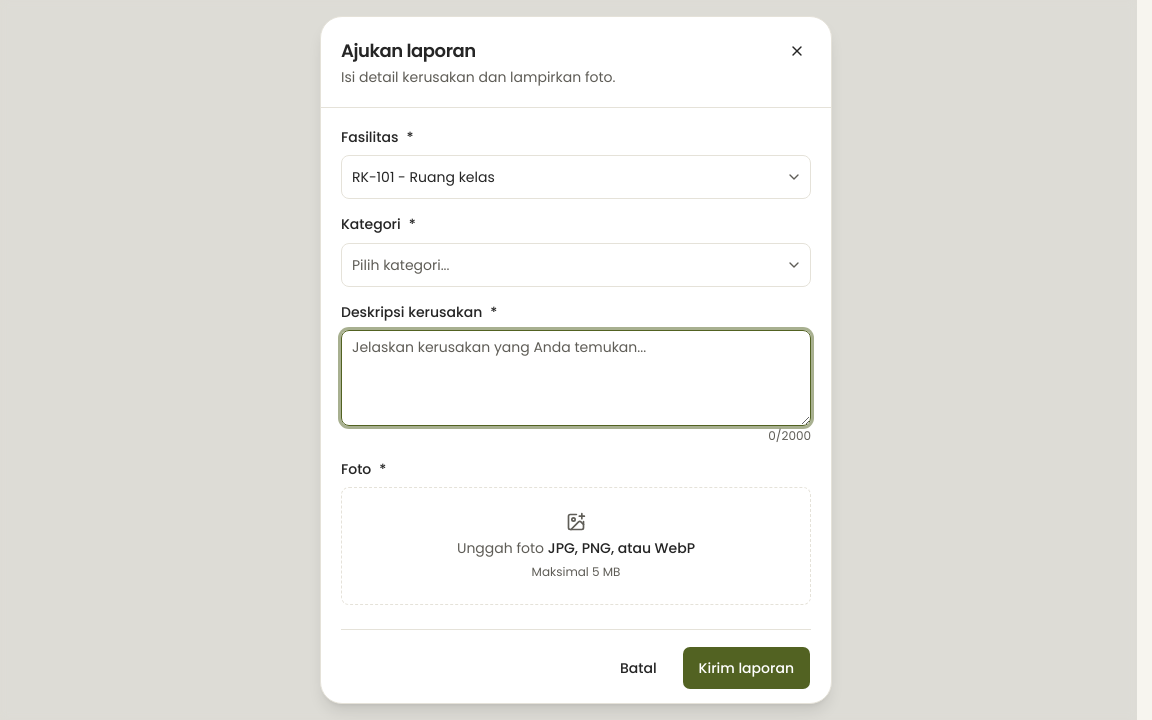
Test: ReportFormDialog memilih fasilitas dan kategori › membuka popup fasilitas dan memilih nilai dengan pointer
Click the dropdown named "Fasilitas": (423, 177) [341,155,811,199]
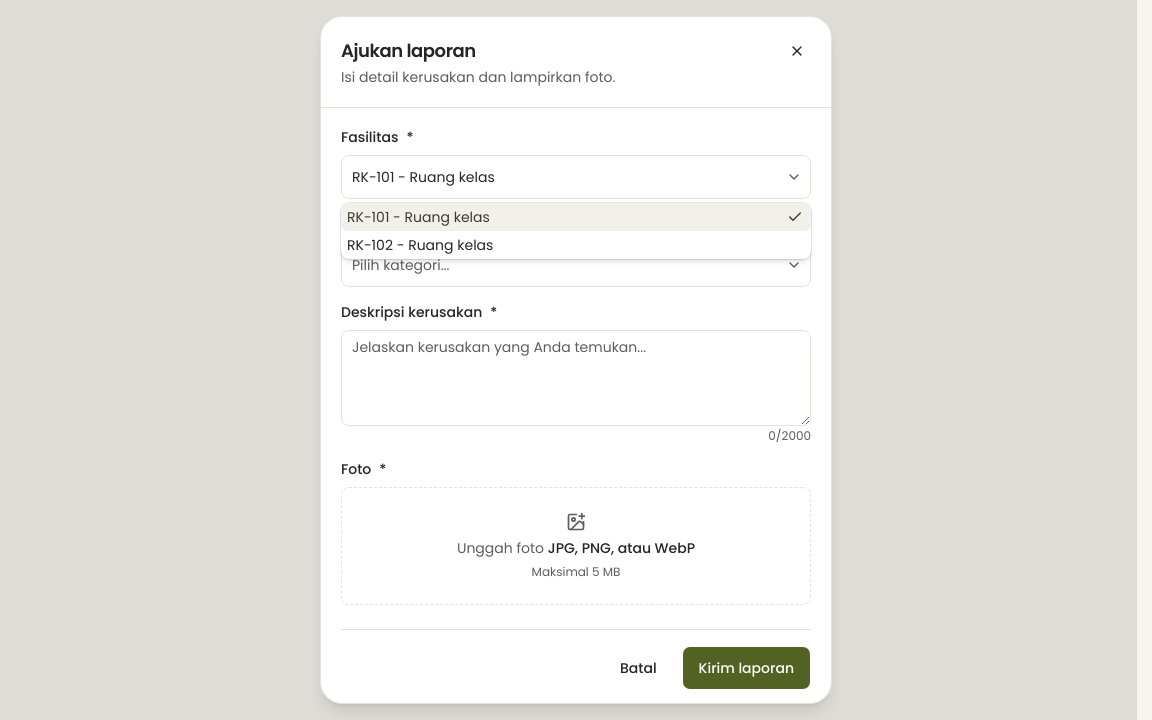
Check: the list is shown, box [341,203,811,259]
Click the option "RK-102 - Ruang kelas": (420, 245) [347,235,493,255]
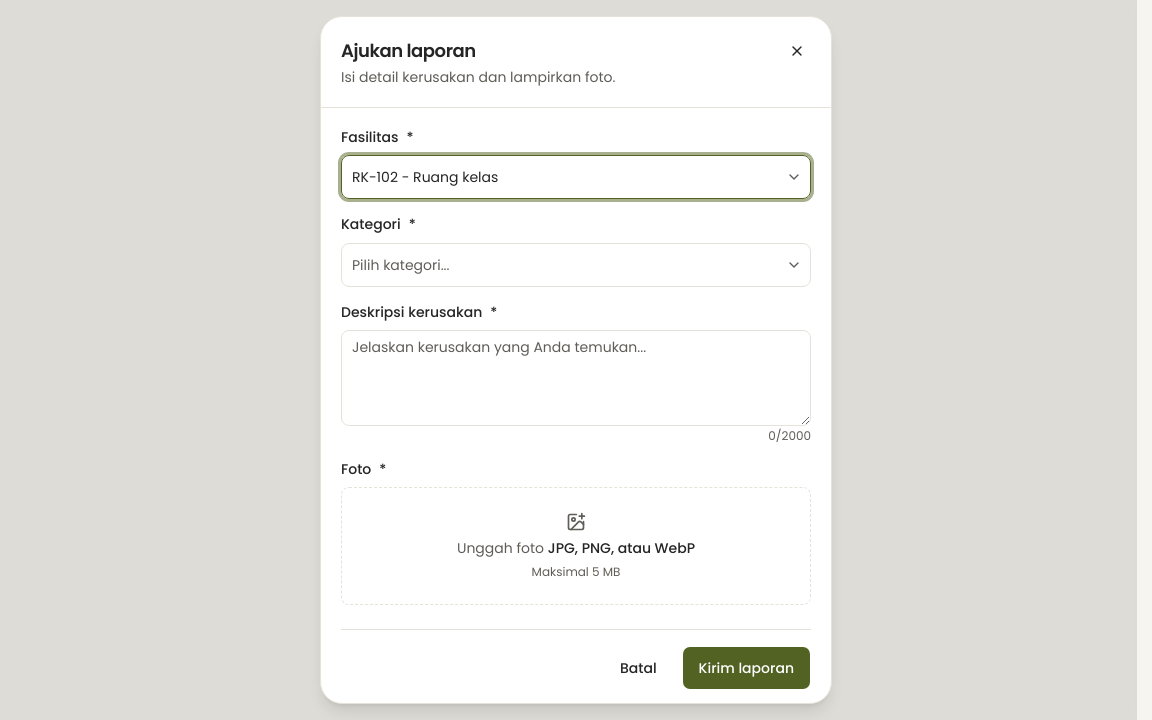
Check: the element named "facilityId" holds "2", box [341,155,811,199]
Check: the dropdown named "Fasilitas" shows "RK-102", box [341,155,811,199]
